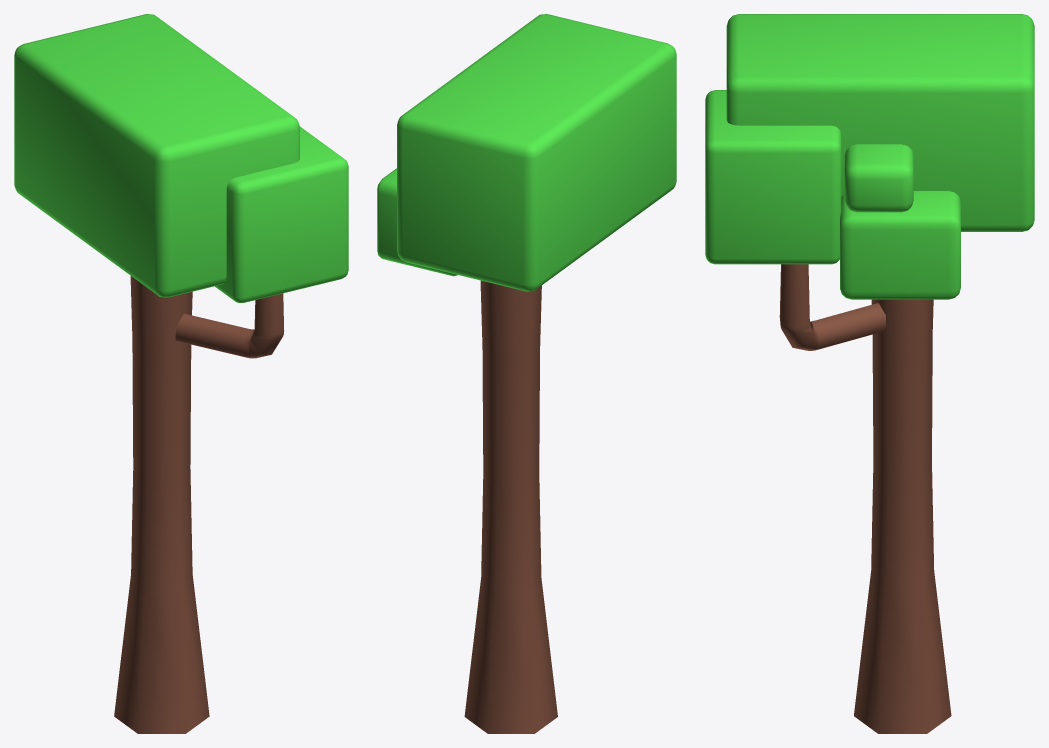
The model's file is tree2.fbx.
3 renders of one model, left to right at view 1: azimuth 30°, elevation 25°; view 2: azimuth 150°, elevation 25°; view 3: azimuth 270°, elevation 25°, orthographic. The views are drawn at different scales.
Parts seen in each view (by area): view 1: Cube.001; view 2: Cube.001; view 3: Cube.001.
Part boxes in pixels (<box>): Cube.001: <box>14,14,348,733</box>; Cube.001: <box>377,14,676,733</box>; Cube.001: <box>705,14,1034,733</box>.
Bounding box in the file's own units: 190 × 587 × 265.
